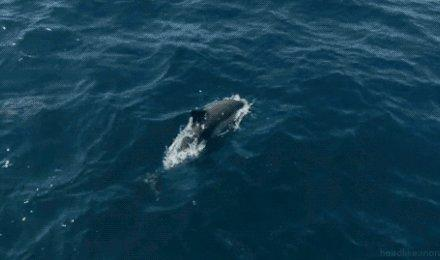fish: (160, 96, 252, 172)
